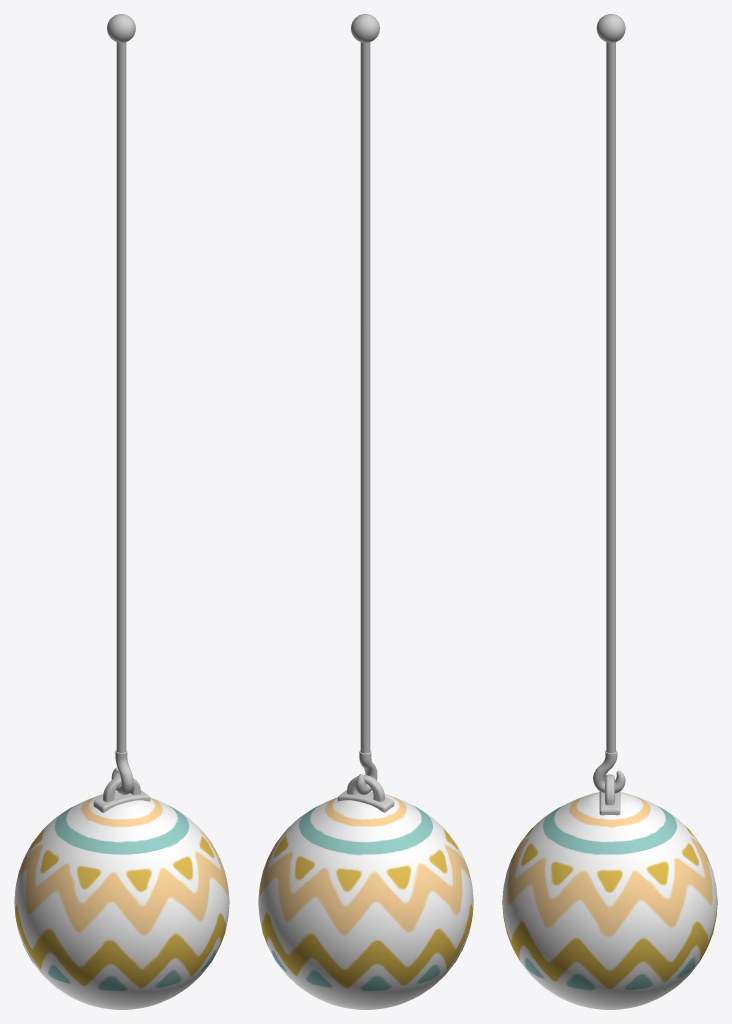
3 renders of one model, left to right at view 1: azimuth 30°, elevation 25°; view 2: azimuth 150°, elevation 25°; view 3: azimuth 270°, elevation 25°, orthographic.
Visible parts, largest first — view 1: SM_Sphere; view 2: SM_Sphere; view 3: SM_Sphere.
Boxes of the visible parts, bbox=[...] form: SM_Sphere: bbox=[14, 14, 229, 1009]; SM_Sphere: bbox=[258, 14, 473, 1009]; SM_Sphere: bbox=[502, 14, 717, 1009].
Bounding box in the file's own units: 302 × 302 × 1521.
5 materials, 2 textured.
